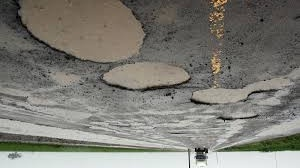pothole: (11, 0, 159, 62), (92, 60, 195, 95), (189, 77, 289, 107), (214, 110, 260, 124)
